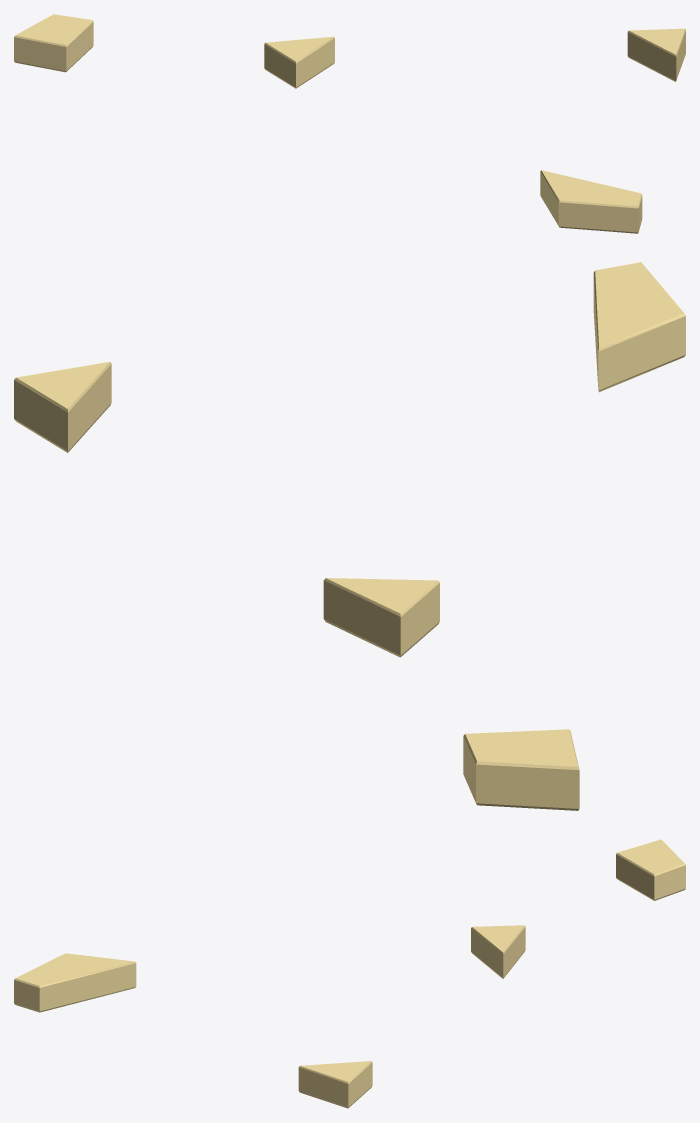
File: CPV.glb
The picture shows the model from 3 angles, top to bottom: view 1: azimuth 30°, elevation 25°; view 2: azimuth 150°, elevation 25°; view 3: azimuth 270°, elevation 25°; orthographic projection. The views are drawn at different scales.
Bounding box in the file's own units: 1.33 × 0.068 × 1.56.
